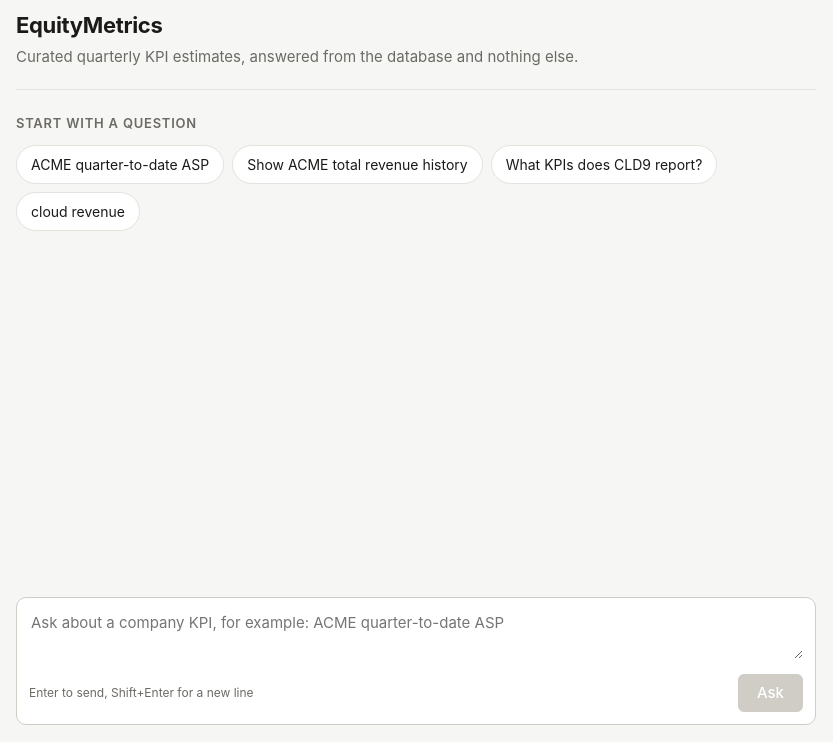
Test: failures › a network failure does not leave the UI stuck
Click the button "ACME quarter-to-date ASP". click: (120, 164)
box: [16,145,224,184]
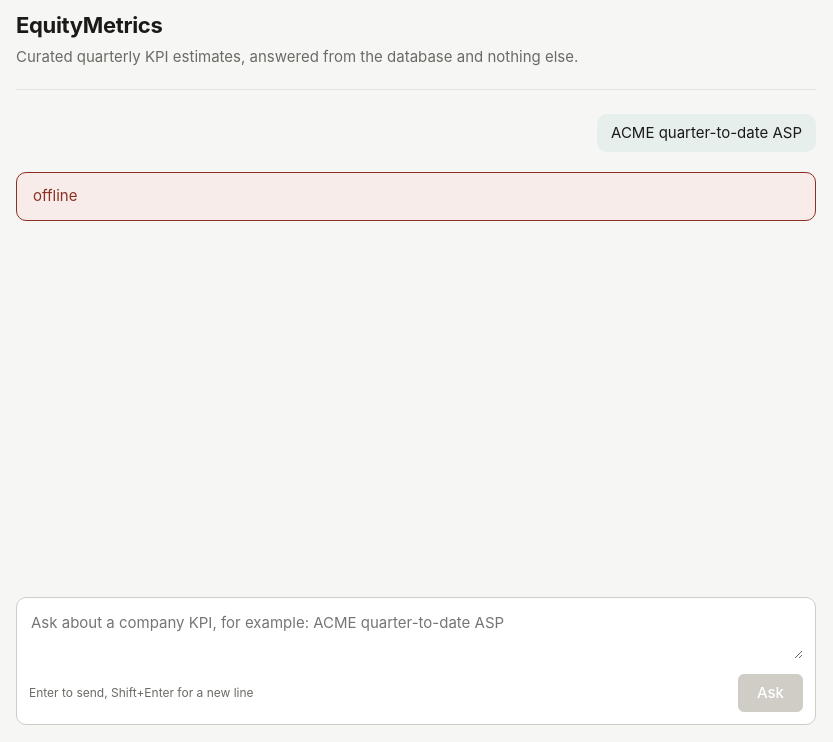
Expected: the message reads "offline", [33,186,77,205]
